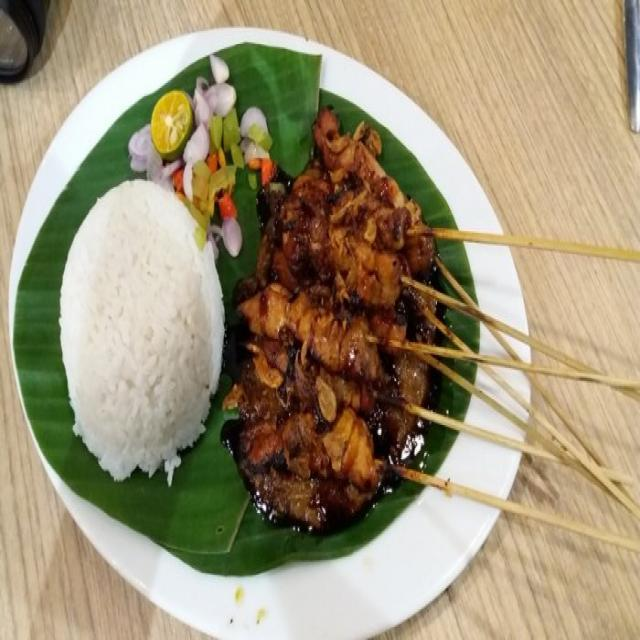nasi: (61, 174, 225, 480)
sate: (235, 104, 640, 536)
